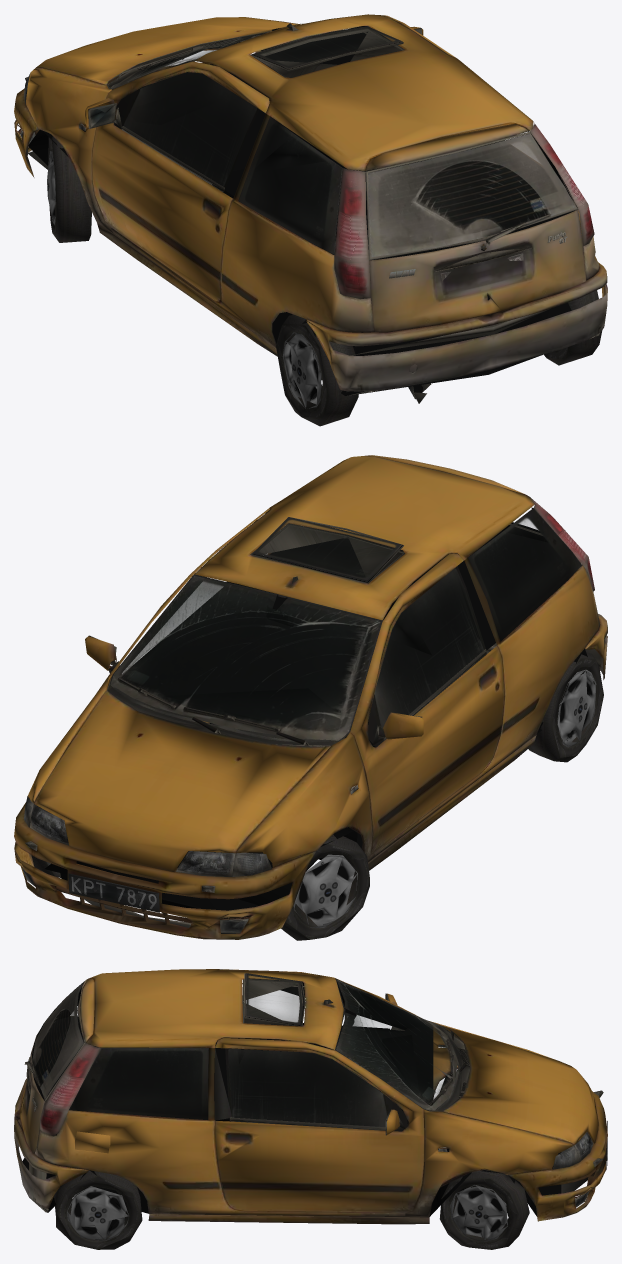
File: punto_lo.glb
3 views of the same model, one above another, from view 1: azimuth 30°, elevation 25°; view 2: azimuth 150°, elevation 25°; view 3: azimuth 270°, elevation 25° (orthographic). The views are drawn at different scales.
Parts seen in each view (by area): view 1: gt_body, gt_windows, gt_black, gt_details, gt_tire (×3), Hemi.001, gt_rim; view 2: gt_body, gt_windows, gt_black, gt_details, gt_tire (×2), gt_rim (×2), Hemi.001, gt_license; view 3: gt_body, gt_windows, gt_black, gt_tire (×2), gt_details, gt_rim (×2), Hemi.001.
Part boxes in pixels (x1,y1,x2,y2): gt_body: (14,14,607,391); gt_windows: (111,23,575,256); gt_black: (28,26,577,396); gt_details: (25,23,599,403); gt_tire (×3): (48,128,602,426); Hemi.001: (20,73,594,298); gt_rim: (282,332,321,408); gt_body: (14,455,607,939); gt_windows: (110,508,581,747); gt_black: (45,507,587,918); gt_details: (25,517,542,933); gt_tire (×2): (281,652,603,940); gt_rim (×2): (293,669,596,928); Hemi.001: (21,498,594,932); gt_license: (68,873,159,912); gt_body: (14,969,607,1224); gt_windows: (32,973,457,1131); gt_black: (22,978,561,1216); gt_tire (×2): (54,1170,529,1249); gt_details: (14,973,603,1221); gt_rim (×2): (67,1185,507,1241); Hemi.001: (40,1043,593,1207).
Size of the model in its own units: 1.94 by 1.46 by 3.79.
8 materials, 7 textured.
